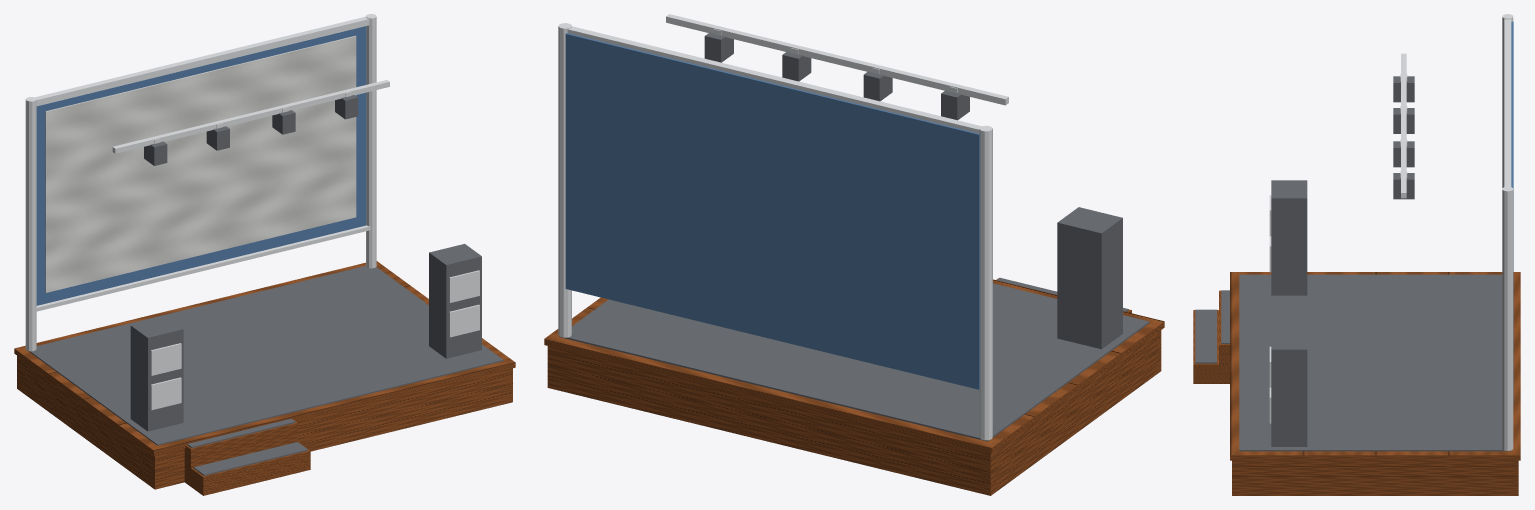
File: cruise-ship-deck-and-lounge-cruise-ship-deck-and-loung-73390ffd.glb
3 renders of one model, left to right at view 1: azimuth 30°, elevation 25°; view 2: azimuth 150°, elevation 25°; view 3: azimuth 270°, elevation 25°, orthographic. The views are drawn at different scales.
Parts seen in each view (by area): view 1: cruise-ship-deck-and-lounge-stage-and-backdrop; view 2: cruise-ship-deck-and-lounge-stage-and-backdrop; view 3: cruise-ship-deck-and-lounge-stage-and-backdrop.
Boxes of the visible parts, x1,y1,x2,y2 form: cruise-ship-deck-and-lounge-stage-and-backdrop: (14, 14, 515, 495); cruise-ship-deck-and-lounge-stage-and-backdrop: (544, 14, 1164, 495); cruise-ship-deck-and-lounge-stage-and-backdrop: (1193, 14, 1520, 495).
Size of the model in its own units: 6.06 by 4.66 by 4.57.
Materials: 5 (2 with a texture image).
